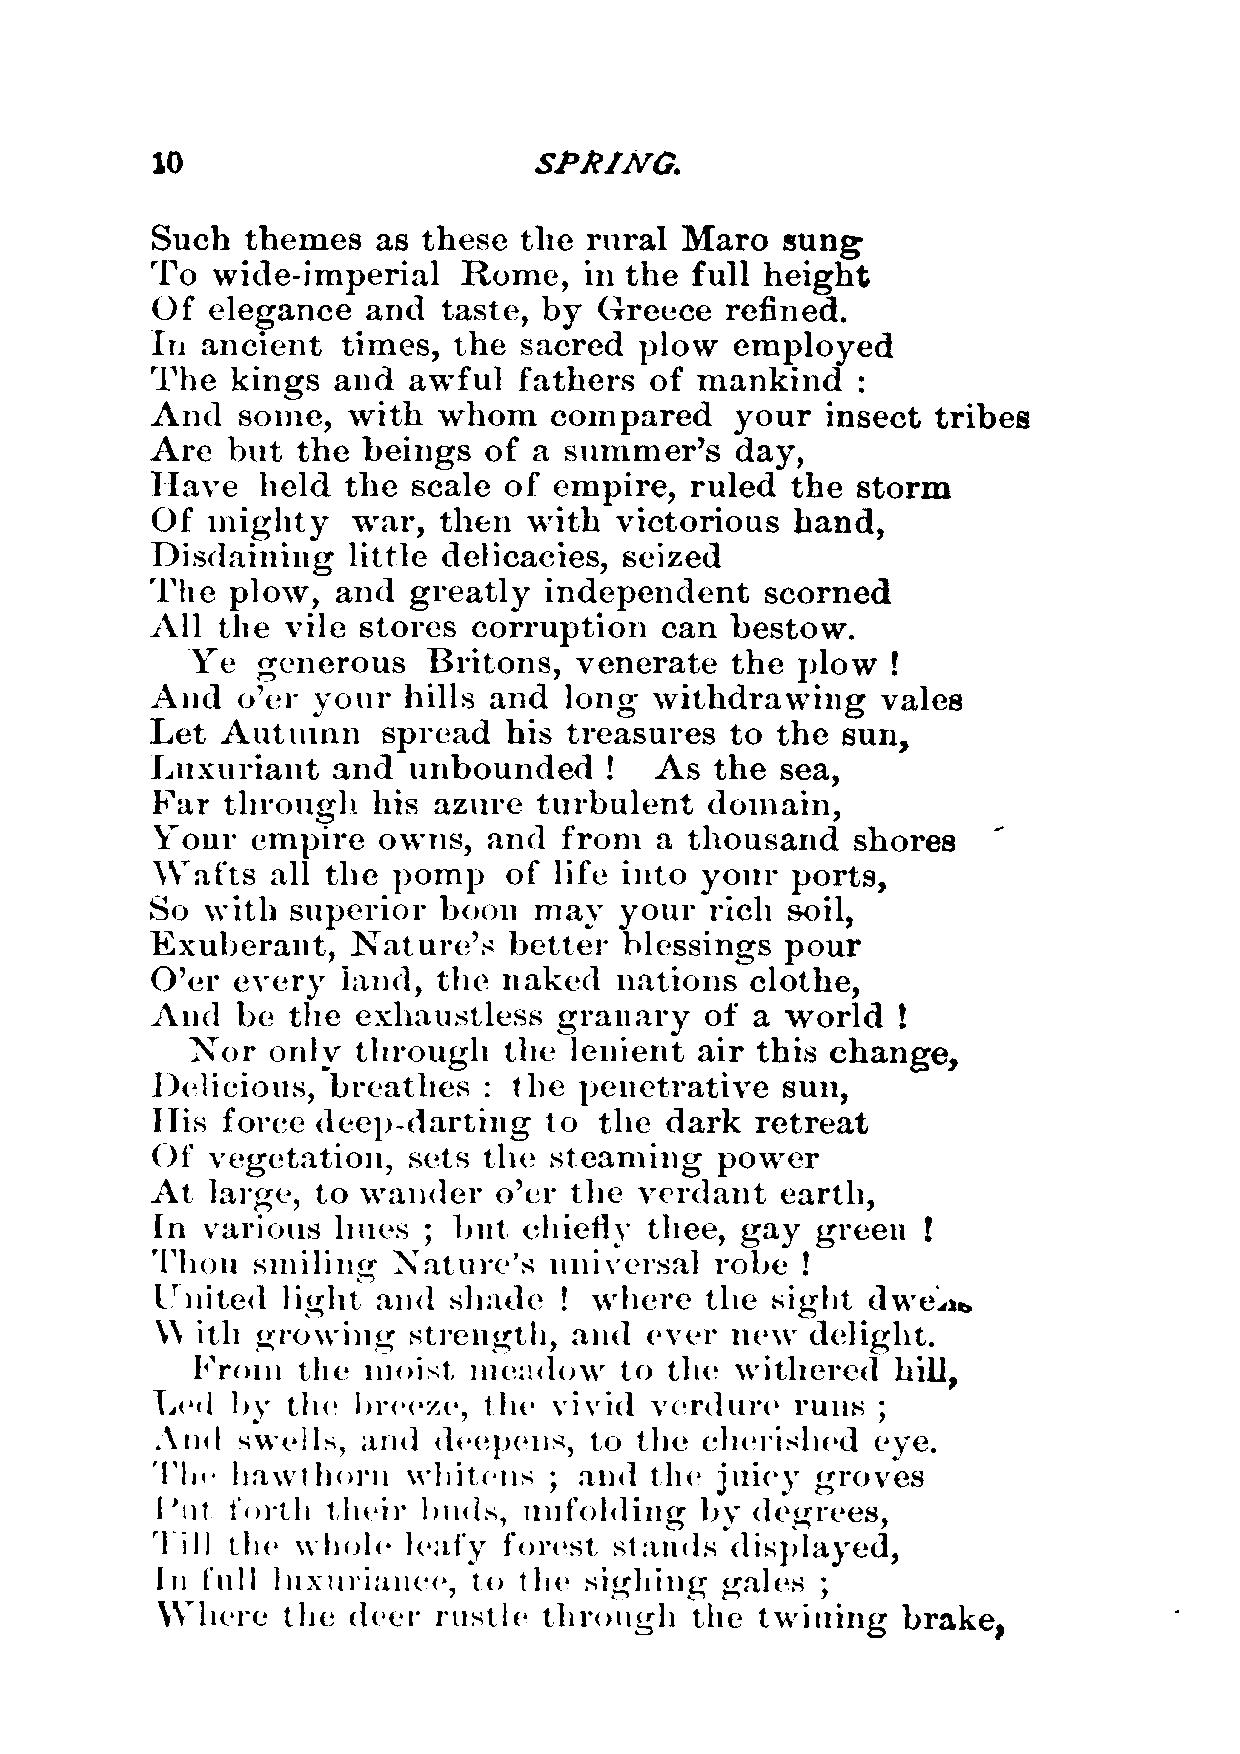content: (144, 213, 1041, 1645)
content_chapter: (531, 146, 680, 178)
content_pagenumber: (148, 142, 191, 183)
